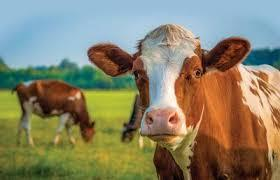cow: (88, 25, 280, 180), (15, 81, 94, 148)
